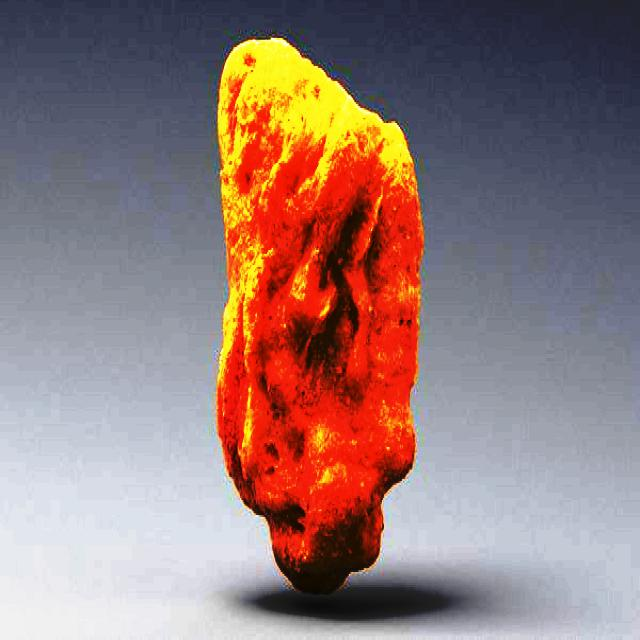chicken_nuggets: (204, 24, 436, 598)
